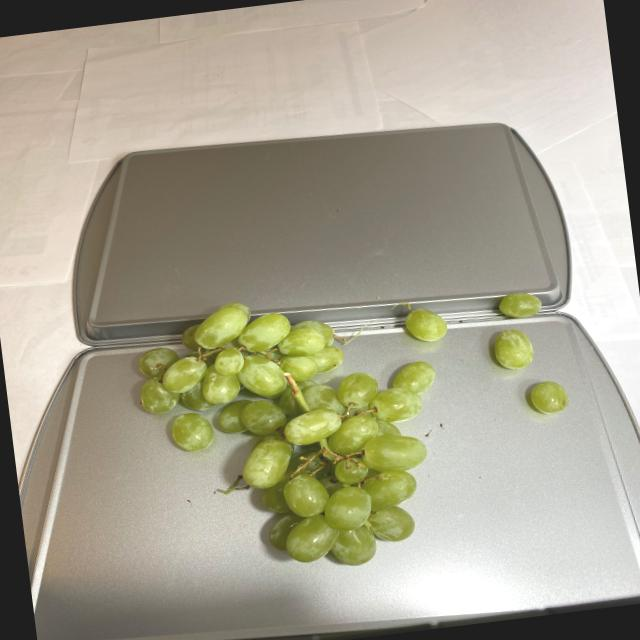grapes: (125, 278, 474, 592), (482, 284, 575, 418)
